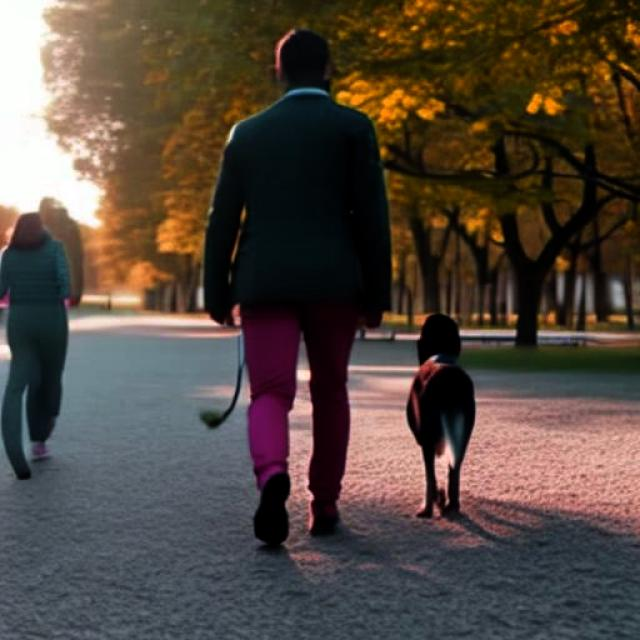Unleashed_Dog: (240, 311, 476, 521)
